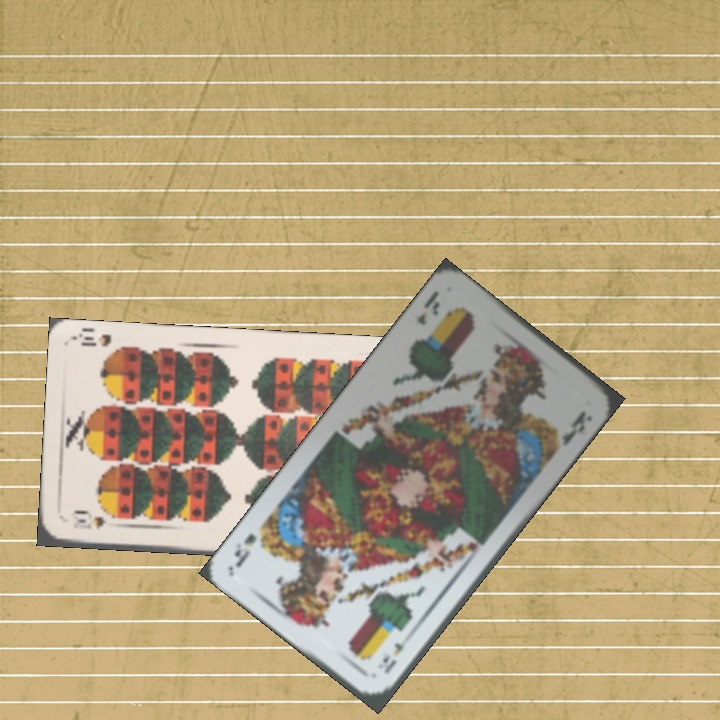EK: (378, 630, 415, 677), (413, 286, 443, 328)
S10: (69, 513, 109, 533)
